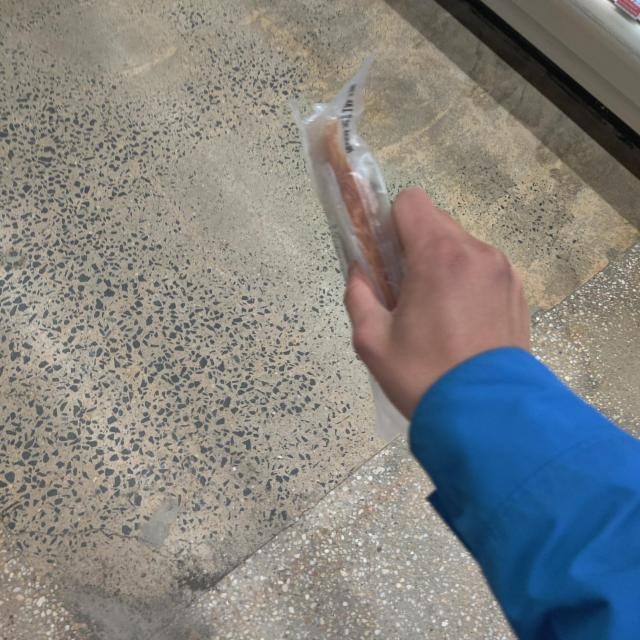Meat: (278, 72, 471, 472)
